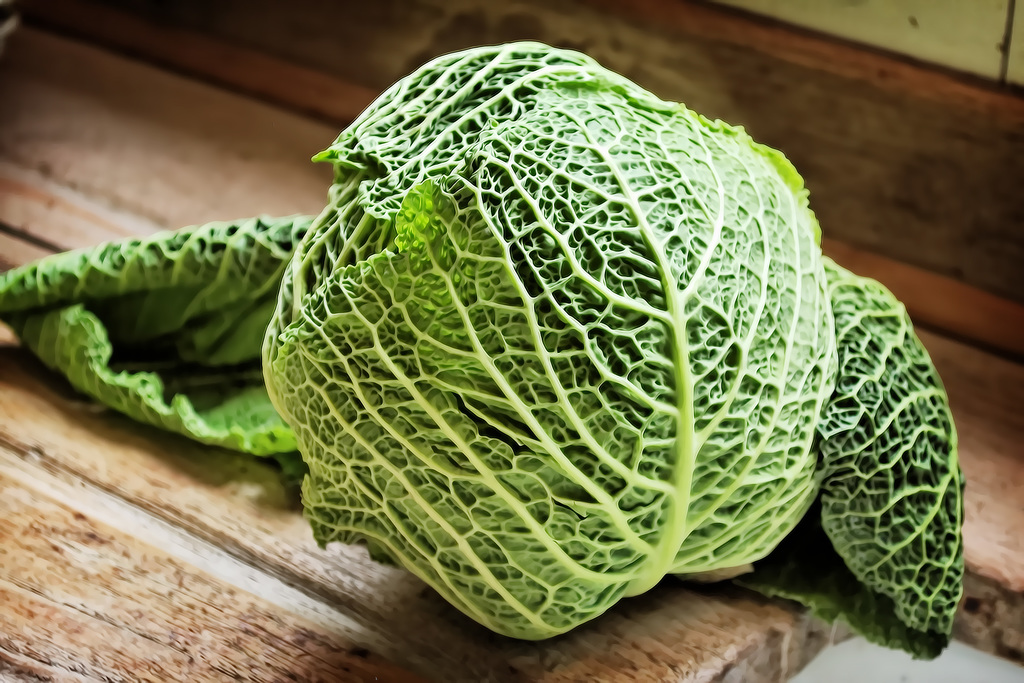Cabbage: (0, 40, 963, 661)
